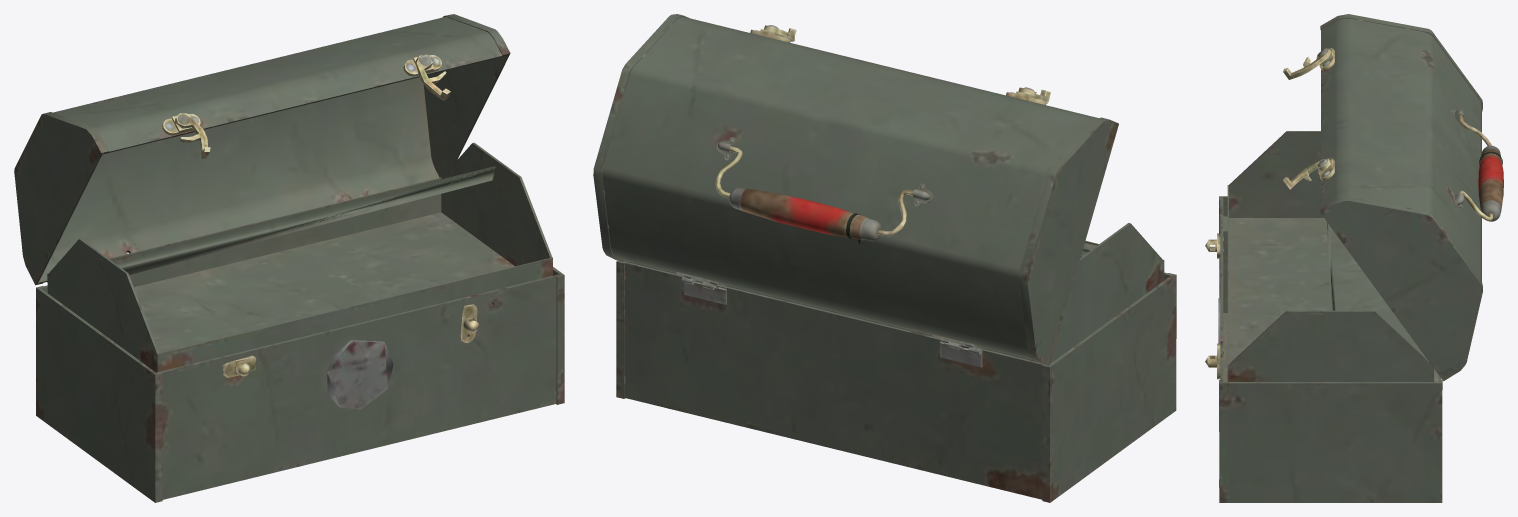
Rendered from toolbox.glb.
The picture shows the model from 3 angles, left to right: view 1: azimuth 30°, elevation 25°; view 2: azimuth 150°, elevation 25°; view 3: azimuth 270°, elevation 25°; orthographic projection. The views are drawn at different scales.
Visible parts, largest first — view 1: metal_toolbox; view 2: metal_toolbox; view 3: metal_toolbox.
Boxes of the visible parts, box(x1,y1,x2,y2) form: metal_toolbox: box(14, 14, 564, 502); metal_toolbox: box(593, 14, 1176, 502); metal_toolbox: box(1205, 14, 1503, 502).
Size of the model in its own units: 0.4 by 0.3047 by 0.2705.
Materials: 1 (1 with a texture image).
